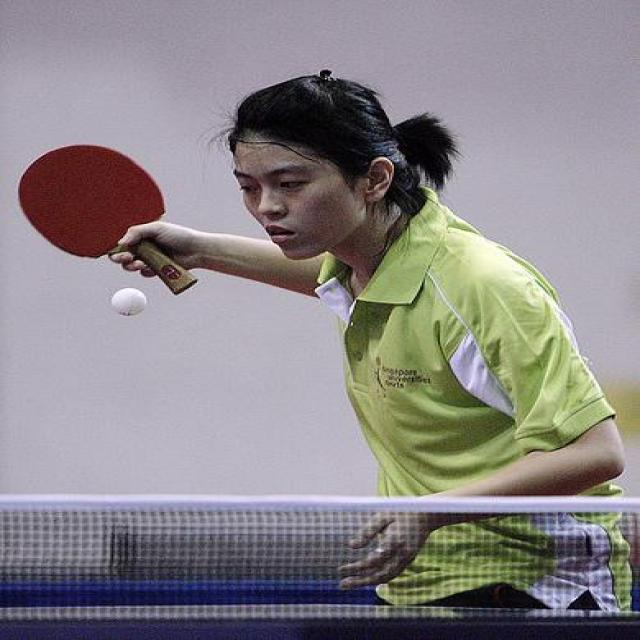ping-pong-ball: (110, 288, 150, 318)
